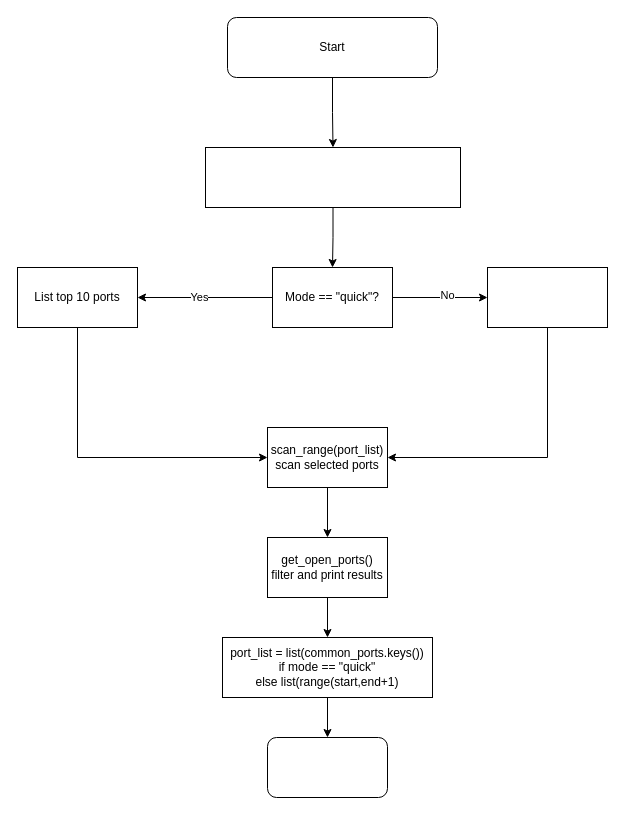
The diagram is 625 pixels wide and 815 high, and some of its shapes have lost their labels. Each missing label, with the centre of its shape:
"End" belongs at (x=327, y=767).
"Full range (1-1024)" belongs at (x=547, y=297).
"User selects scan mode quick or full" belongs at (x=332, y=177).
